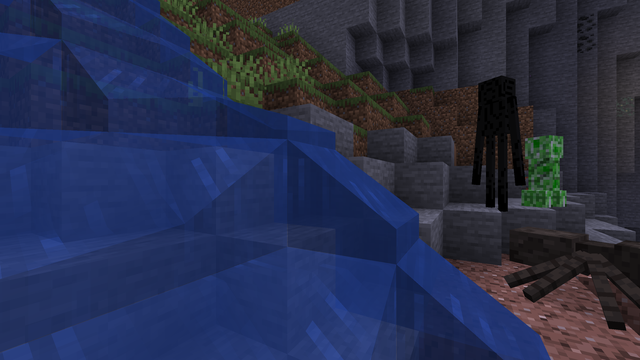araignees: (524, 221, 637, 323)
creepers: (525, 131, 564, 207)
endermens: (480, 69, 515, 209)
